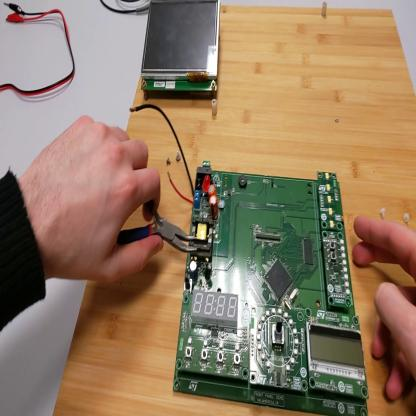hand: (28, 116, 164, 284), (352, 213, 416, 402)
low voltage board: (132, 103, 370, 416)
oscilloscope probe tip: (126, 2, 153, 17)
pliers: (119, 198, 201, 258)
working area: (54, 8, 415, 414)
